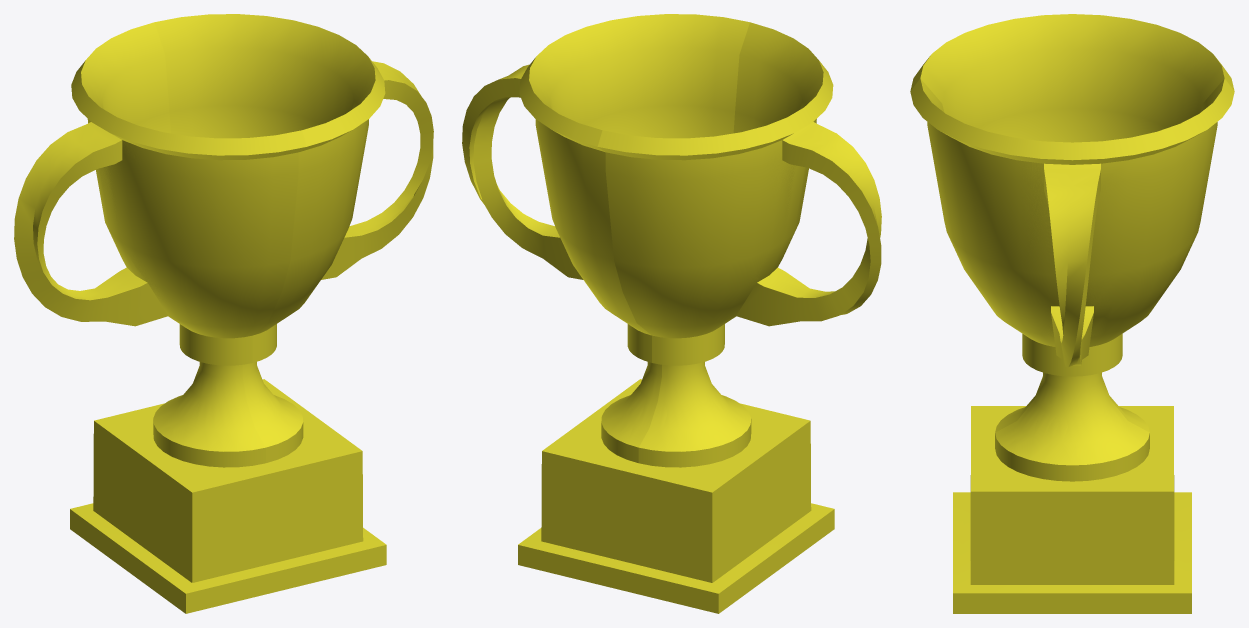
Rendered from trophy.glb.
3 renders of one model, left to right at view 1: azimuth 30°, elevation 25°; view 2: azimuth 150°, elevation 25°; view 3: azimuth 270°, elevation 25°, orthographic. The views are drawn at different scales.
Parts seen in each view (by area): view 1: Cylinder; view 2: Cylinder; view 3: Cylinder.
Part boxes in pixels (x1,y1,x2,y2): Cylinder: (14,14,433,613); Cylinder: (462,14,881,613); Cylinder: (910,14,1234,613).
Bounding box in the file's own units: 3.96 × 4.25 × 2.57.
